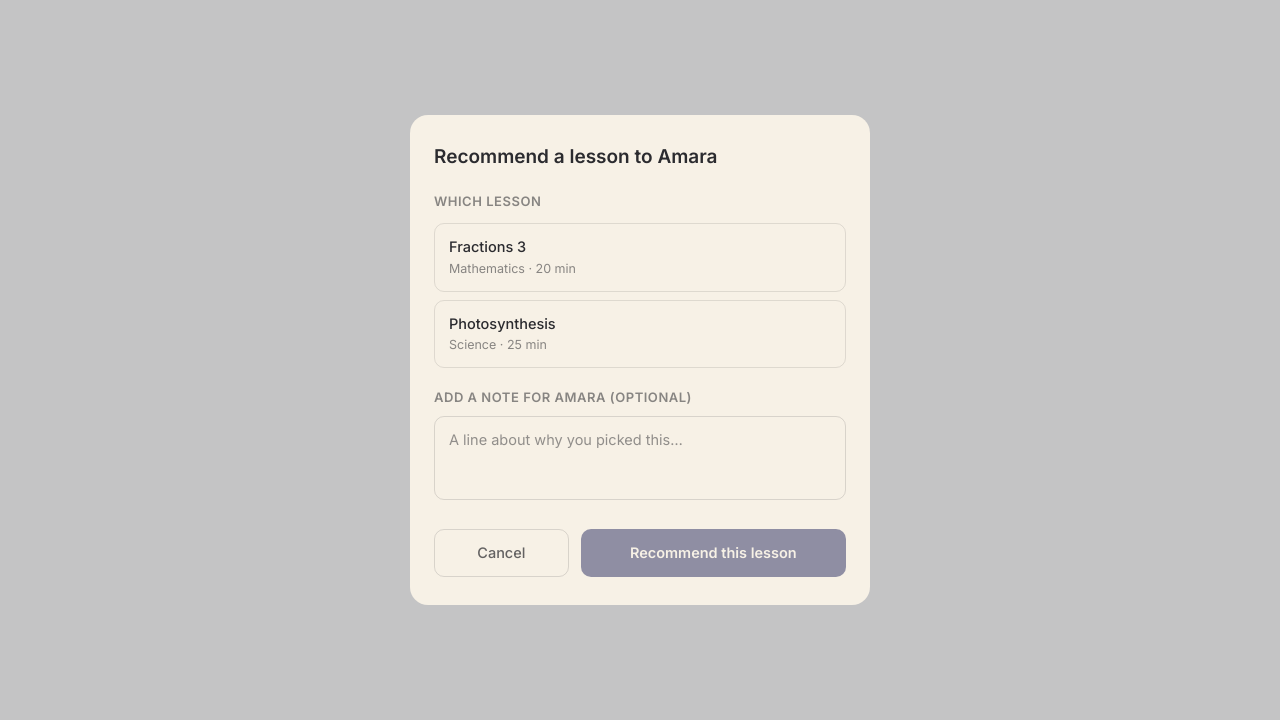
Test: sending › never claims a send that failed
Click the button "Fractions 3 Mathematics · 20 min".
click(488, 246)  # box [434,223,846,292]
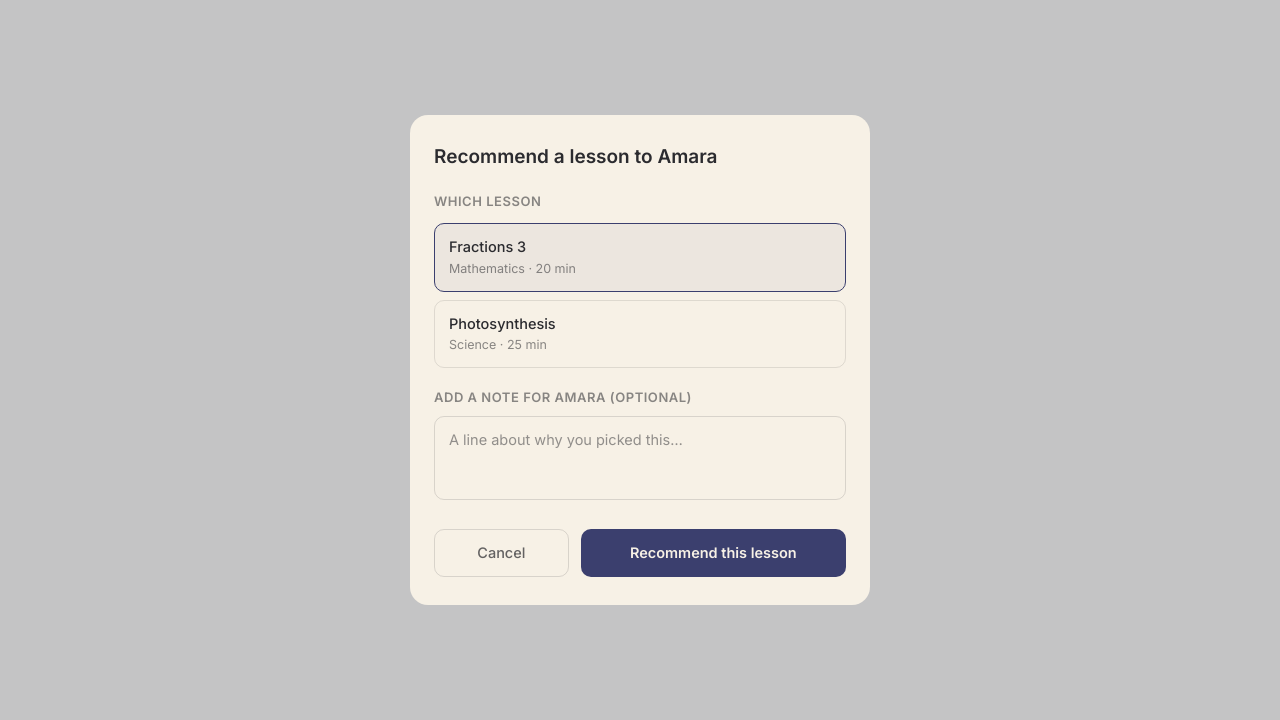
Click the button "Recommend this lesson".
click(713, 553)  # box [581,529,846,577]
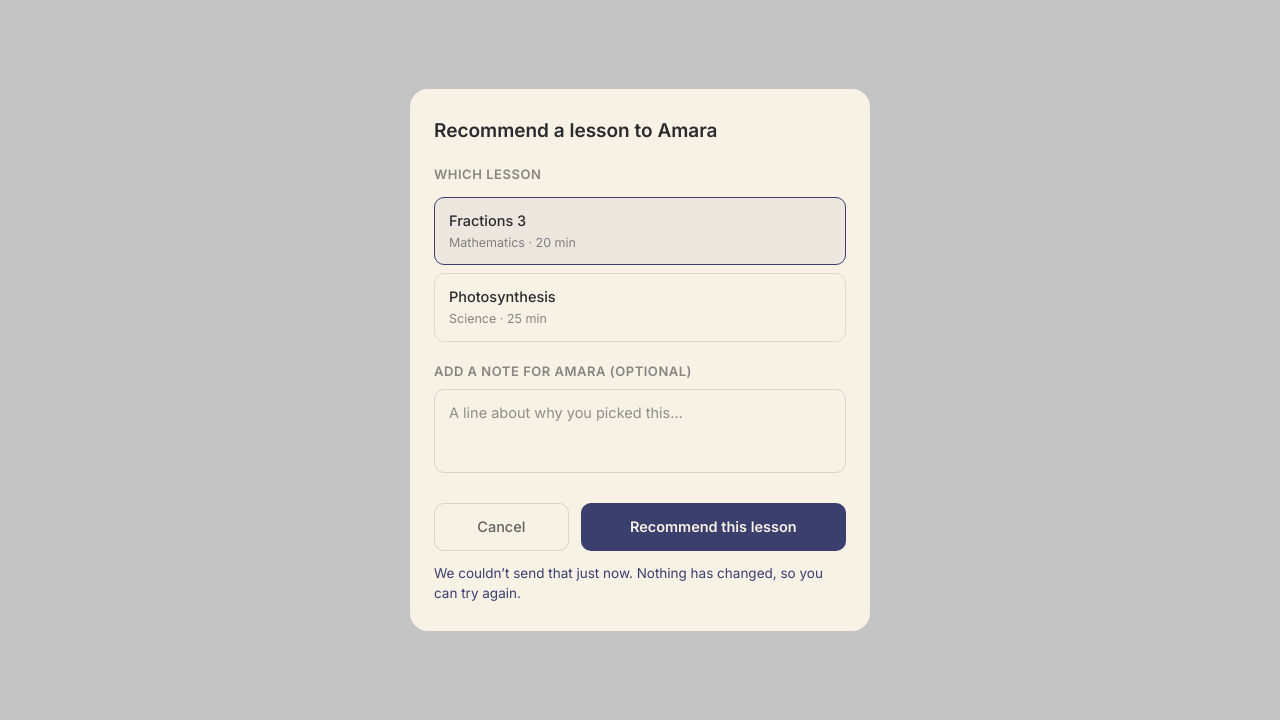
Expected: the message shows "Nothing has changed", [434,565,823,601]
